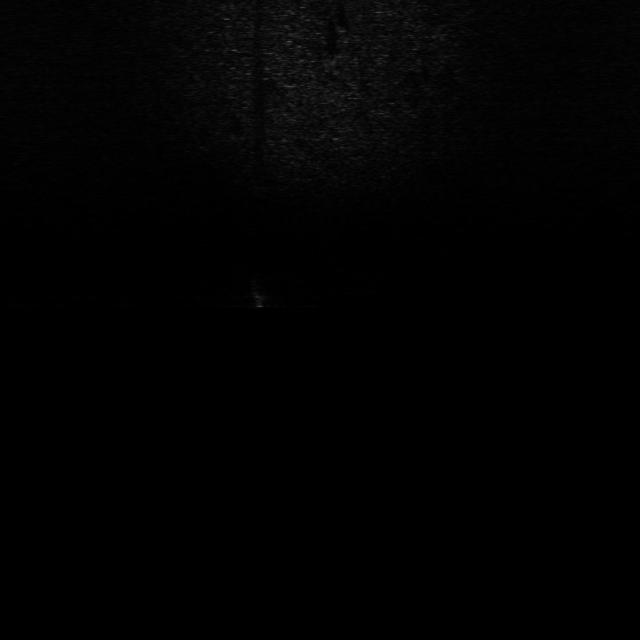human body: (243, 273, 272, 314)
